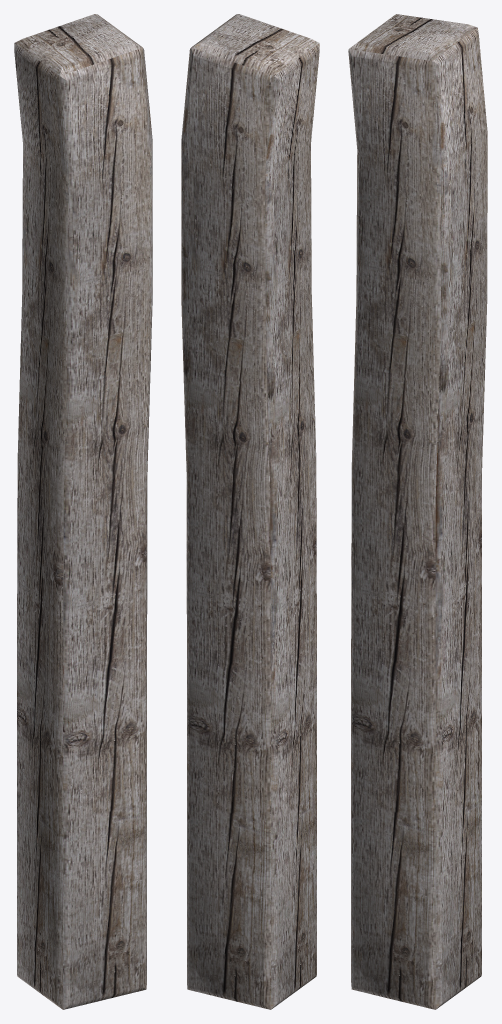
The model's file is post.fbx.
3 views of the same model, side by side, from view 1: azimuth 30°, elevation 25°; view 2: azimuth 150°, elevation 25°; view 3: azimuth 330°, elevation 25° (orthographic).
Parts seen in each view (by area): view 1: Mesh; view 2: Mesh; view 3: Mesh.
Part boxes in pixels (x1,y1,x2,y2): Mesh: (14,14,152,1009); Mesh: (181,14,319,1009); Mesh: (348,14,487,1009).
Bounding box in the file's own units: 42.54 × 391 × 37.
